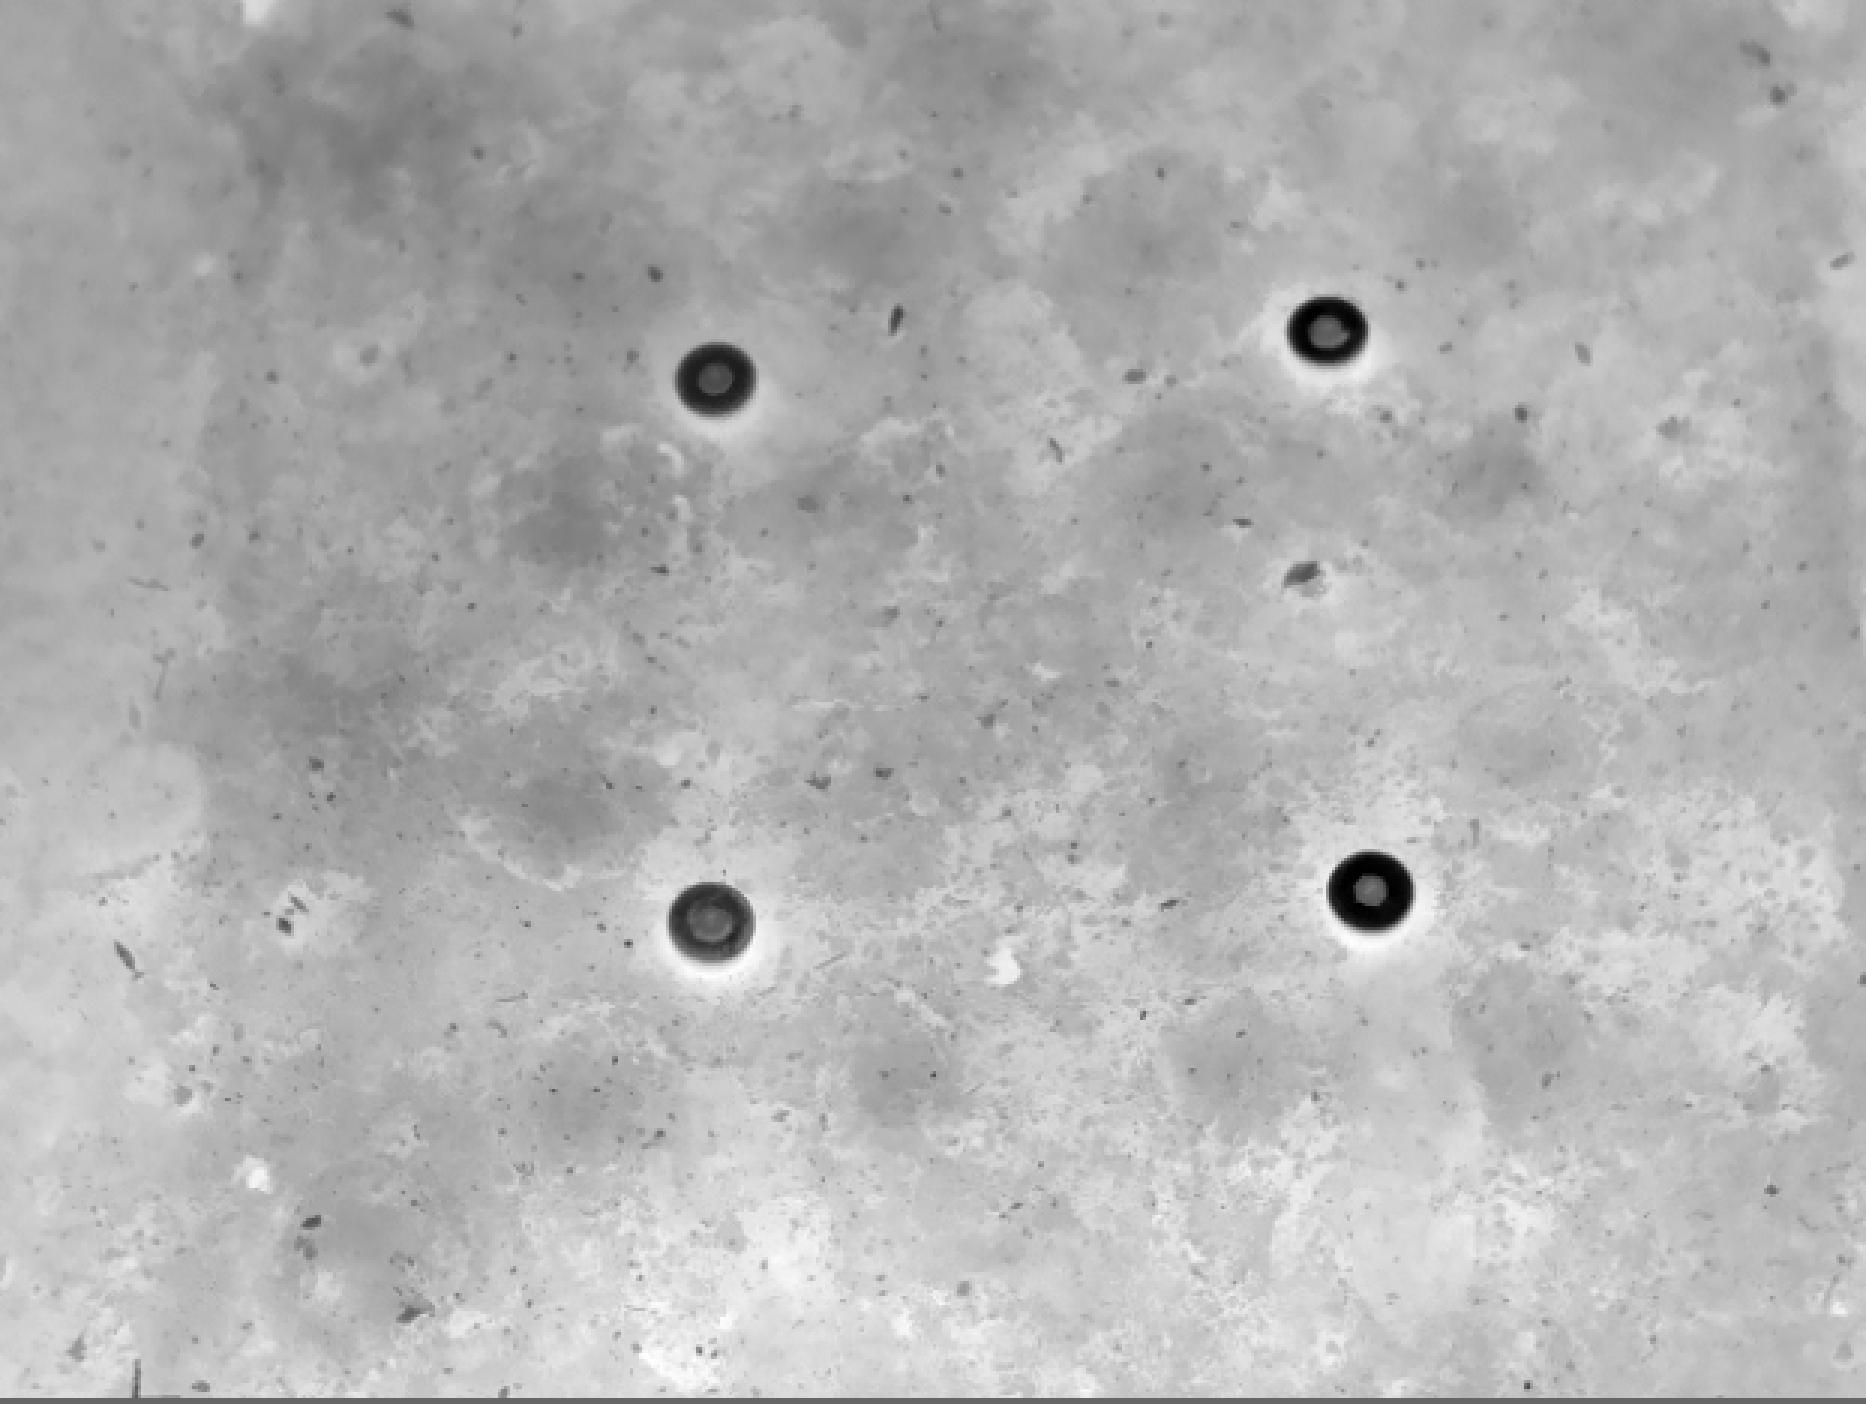mines-gjV8: (676, 866, 763, 987), (1325, 847, 1421, 939), (1288, 285, 1376, 373), (679, 352, 780, 423)
